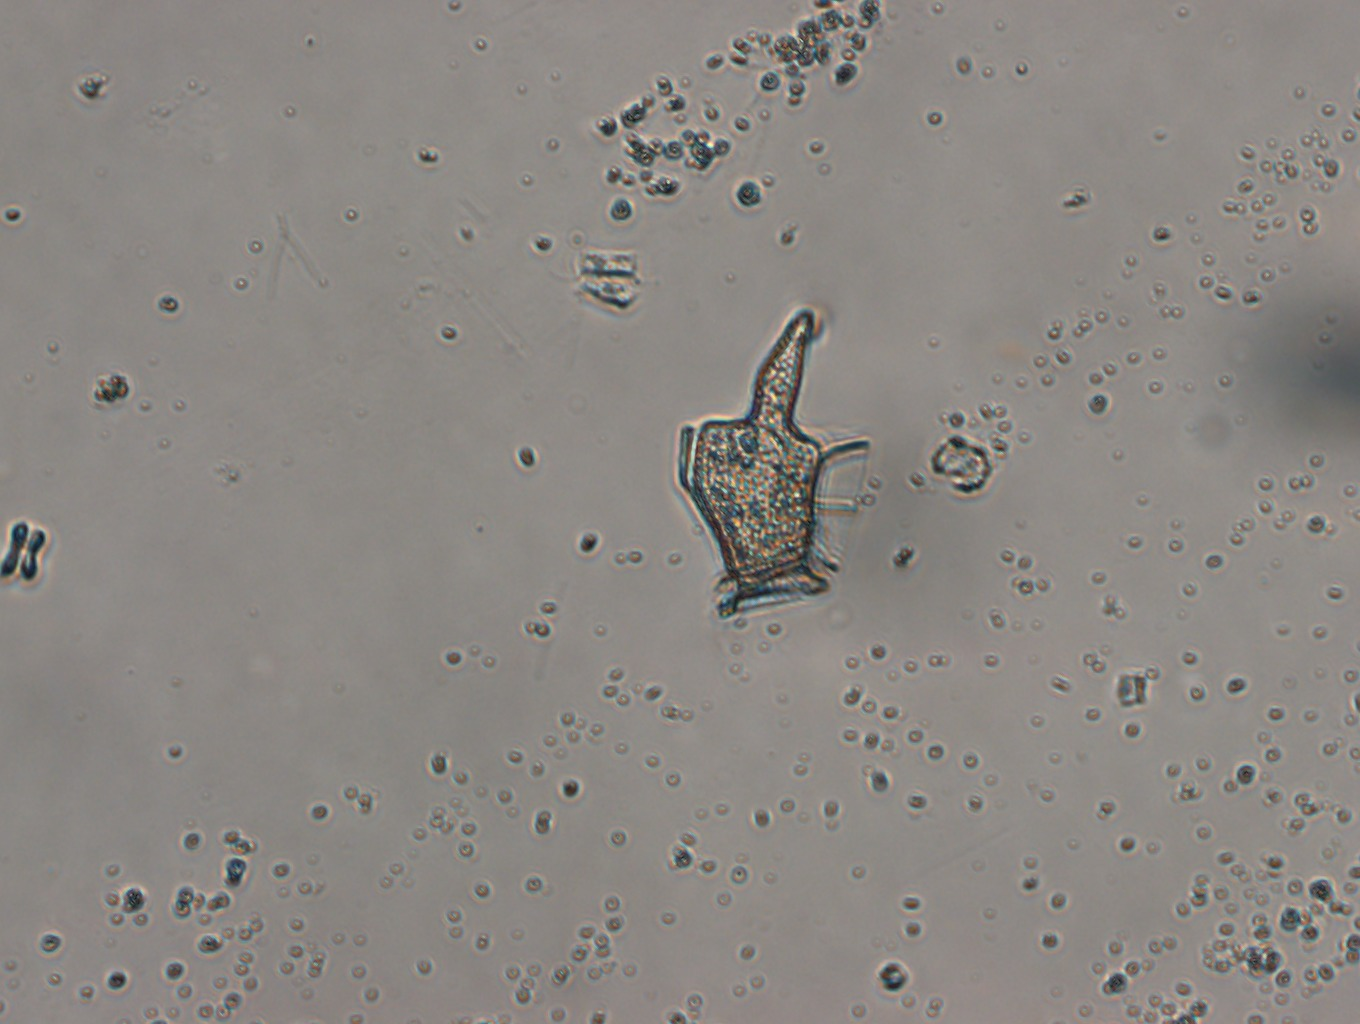dinophysis caudata: (674, 305, 874, 630)
